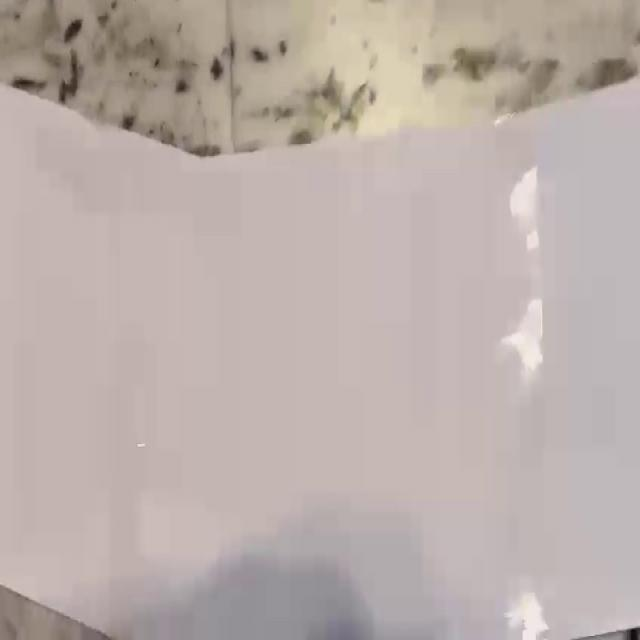road: (0, 79, 640, 639)
